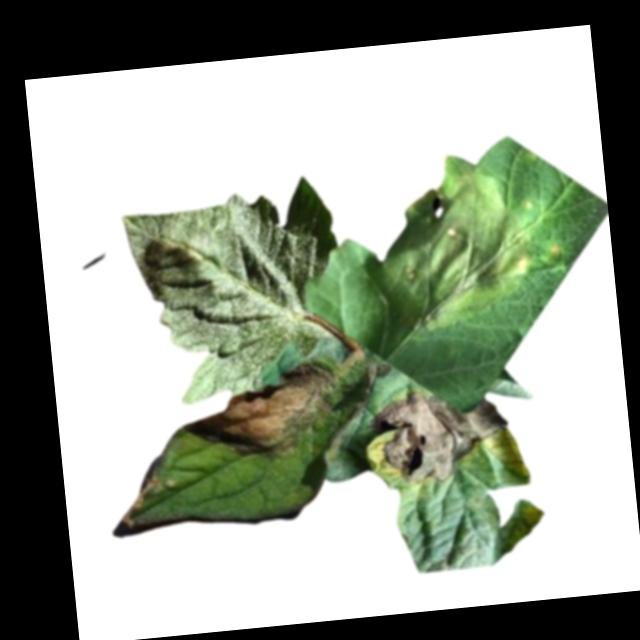Late_blight: (362, 149, 539, 335), (177, 359, 347, 467), (363, 381, 514, 491), (116, 456, 177, 530)
healthy: (117, 171, 356, 412)
